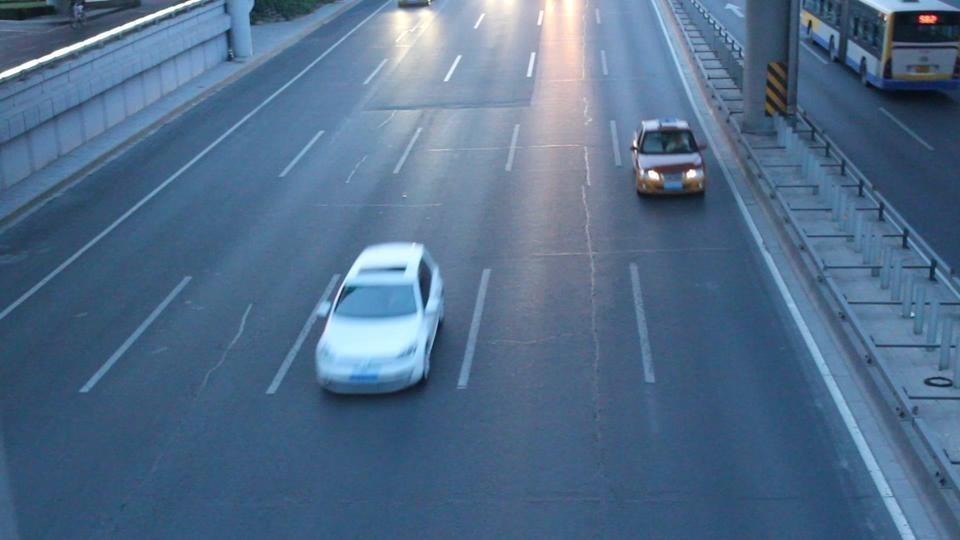car: (313, 241, 446, 396), (629, 117, 707, 197), (397, 0, 434, 10)
